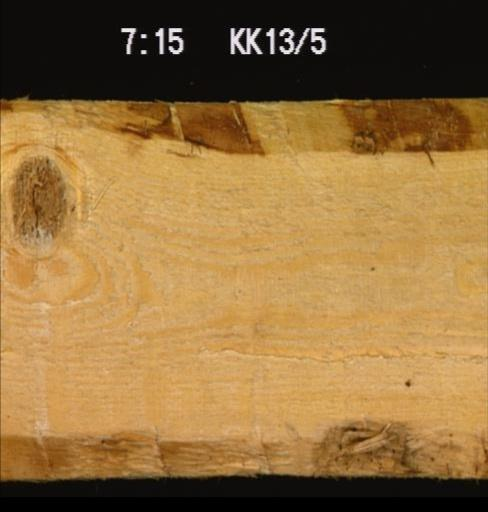small_knot: (400, 374, 412, 391)
sound_knot: (4, 152, 68, 248)
wave: (0, 418, 485, 476), (0, 98, 484, 151)
